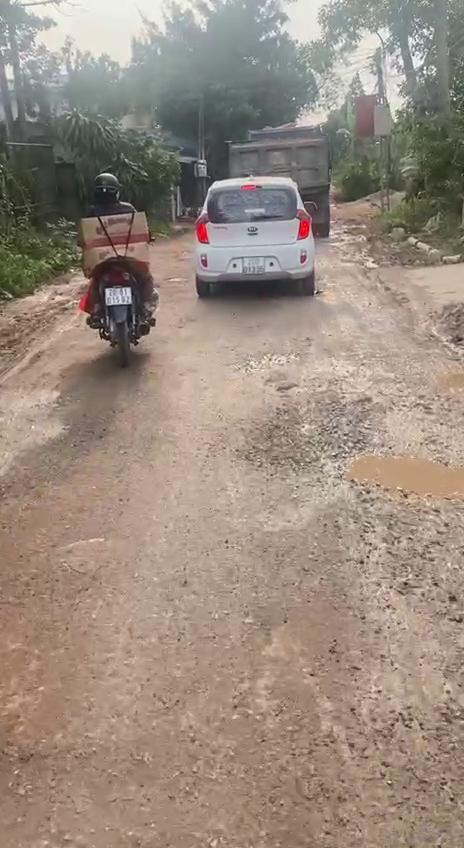pothole: (253, 381, 464, 505)
